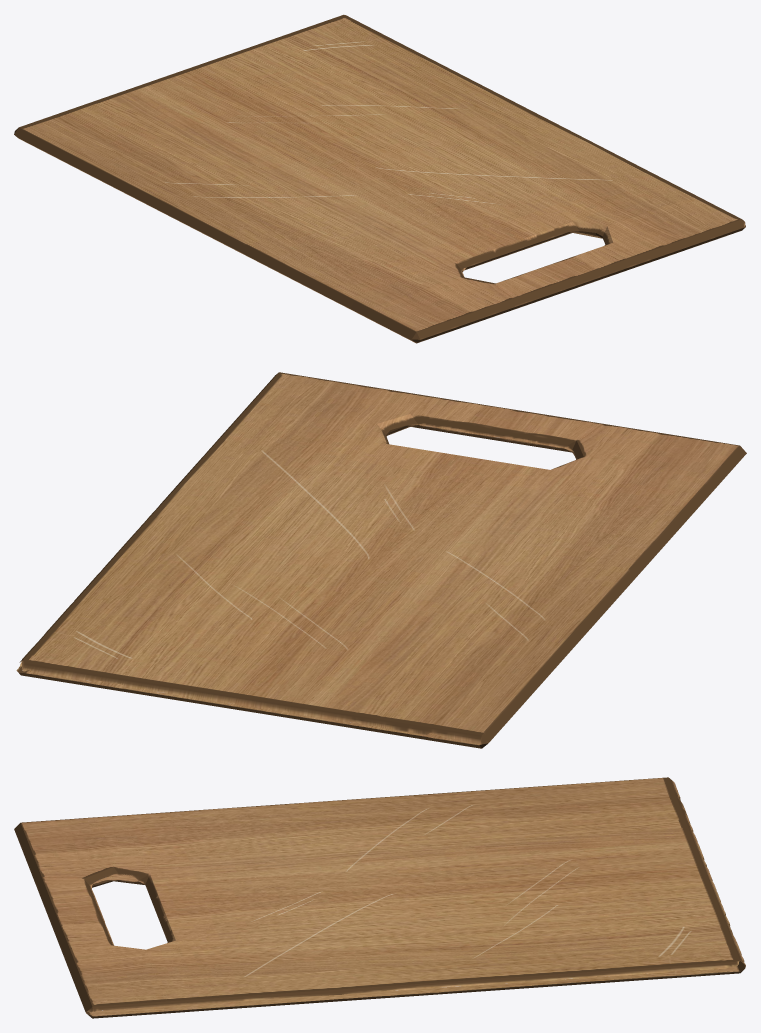
File: ChoppingBoard.fbx
3 views of the same model, one above another, from view 1: azimuth 30°, elevation 25°; view 2: azimuth 150°, elevation 25°; view 3: azimuth 270°, elevation 25° (orthographic). The views are drawn at different scales.
Visible parts, largest first — view 1: chopping board; view 2: chopping board; view 3: chopping board.
Boxes of the visible parts, box(x1,y1,x2,y2) form: chopping board: box(14, 14, 745, 343); chopping board: box(16, 372, 746, 748); chopping board: box(14, 777, 745, 1018).
Size of the model in its own units: 1224 by 34.7 by 1615.
